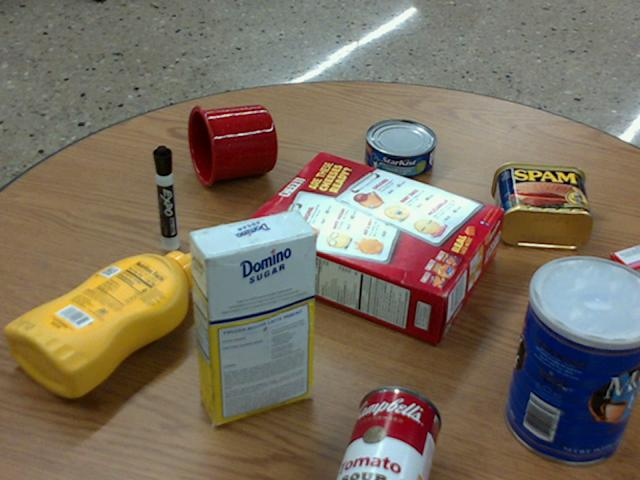cracker_box: (244, 151, 500, 340)
gelatin_box: (594, 243, 639, 324)
large_marker: (153, 145, 177, 249)
master_chef_can: (504, 256, 639, 463)
mug: (187, 104, 277, 186)
mustard_bottle: (7, 250, 202, 396)
potted_meat_can: (492, 161, 592, 248)
sugar_box: (188, 211, 314, 422)
tomato_soup_can: (338, 385, 441, 479)
tuna_fish_can: (365, 119, 436, 176)
